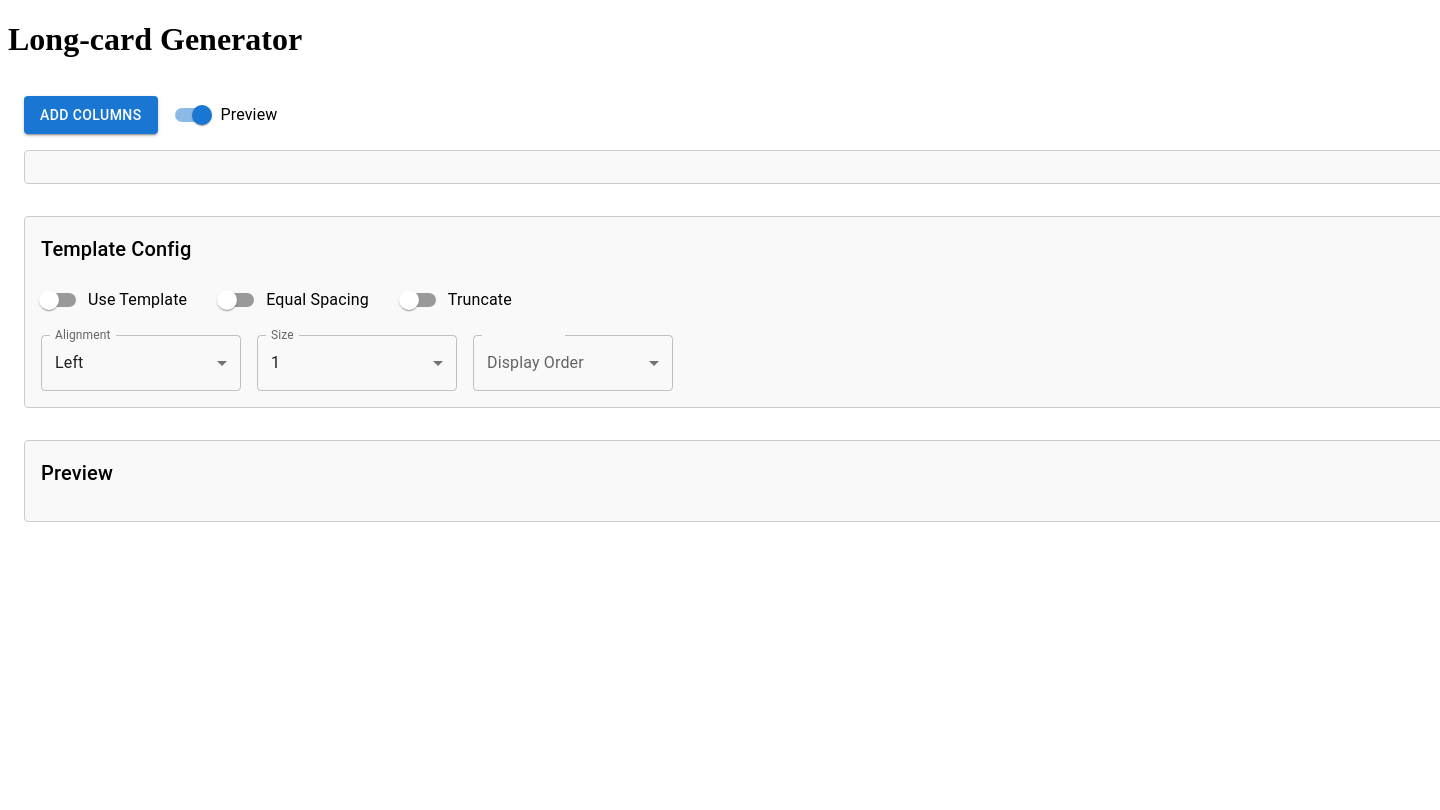
Test case: LongCardTemplateGen Component › adds a column when Add Columns button is clicked
Click the button "Add Columns" at x=91, y=115, box [24,96,158,134]
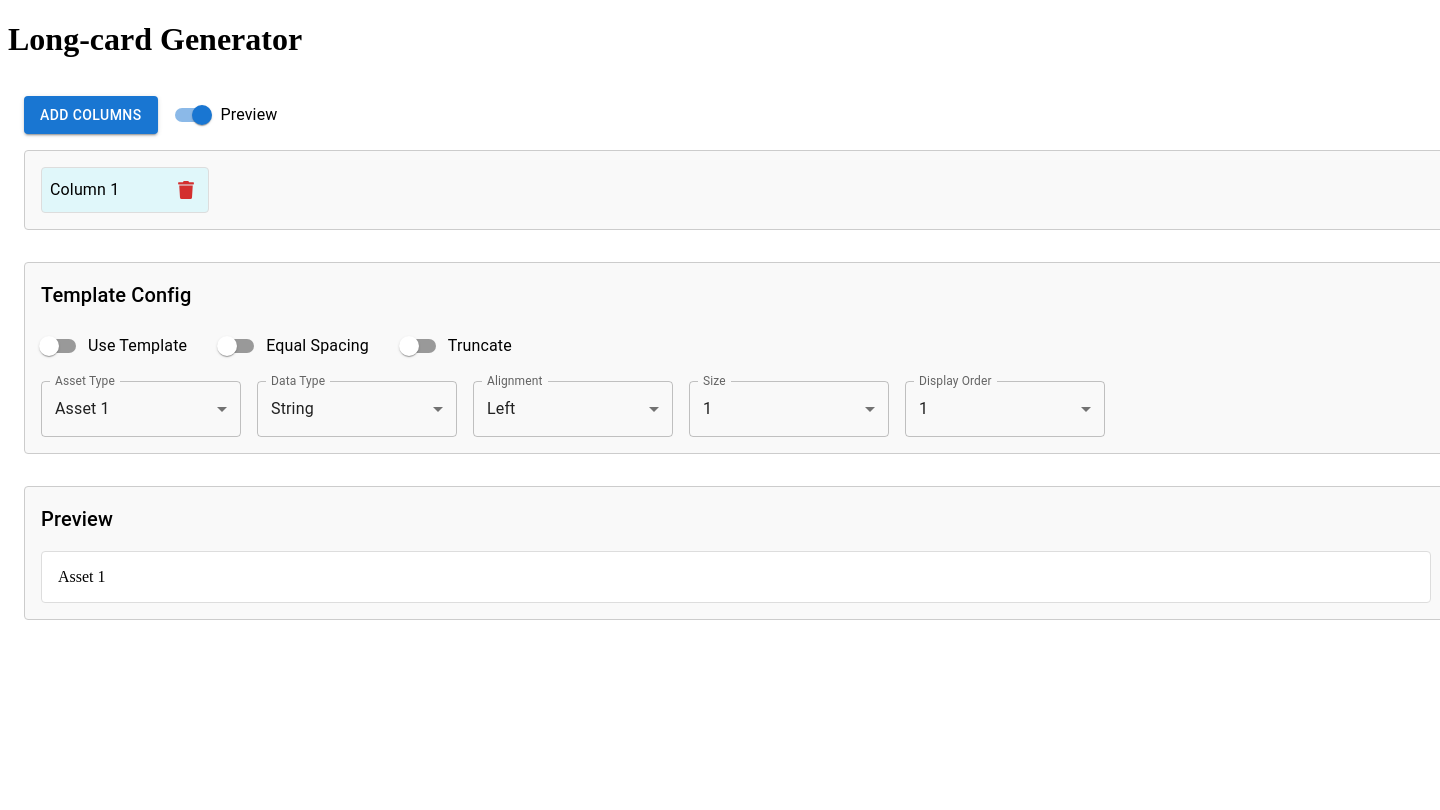
Check: the text "Column 1" is shown, box [50,178,119,202]
